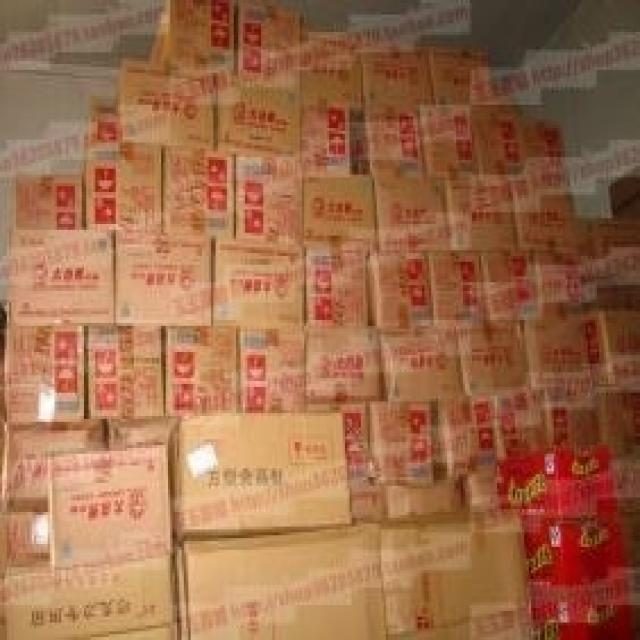box: (179, 521, 388, 637), (175, 416, 350, 541), (384, 518, 533, 637), (50, 445, 170, 564), (0, 553, 170, 637), (11, 233, 116, 323), (527, 311, 640, 390), (2, 419, 104, 506), (113, 236, 211, 323), (116, 61, 216, 145), (5, 323, 89, 419), (213, 244, 306, 326), (86, 326, 163, 416), (218, 76, 300, 160), (86, 145, 163, 230), (150, 0, 236, 76), (166, 148, 236, 236), (166, 326, 236, 413), (236, 0, 302, 90), (241, 326, 309, 410), (374, 177, 449, 253), (309, 326, 381, 404), (236, 157, 302, 241), (384, 329, 463, 396), (306, 247, 370, 329), (556, 448, 624, 524), (449, 175, 515, 250), (363, 41, 433, 111), (304, 177, 377, 244), (372, 250, 436, 326), (372, 404, 433, 483), (354, 111, 424, 177), (515, 180, 576, 253), (463, 326, 529, 393), (304, 32, 361, 108), (483, 250, 540, 326), (563, 521, 629, 585), (443, 399, 499, 474), (424, 108, 486, 175), (499, 451, 561, 518), (14, 175, 84, 230), (429, 49, 495, 105), (479, 102, 529, 175), (495, 393, 547, 463), (302, 102, 350, 175), (433, 253, 483, 323), (572, 585, 631, 640), (522, 116, 572, 180), (536, 250, 581, 320), (524, 518, 567, 585), (531, 582, 579, 637), (547, 393, 601, 439), (343, 404, 374, 483), (388, 483, 461, 515), (111, 416, 179, 448), (89, 96, 123, 154), (350, 489, 384, 521)
